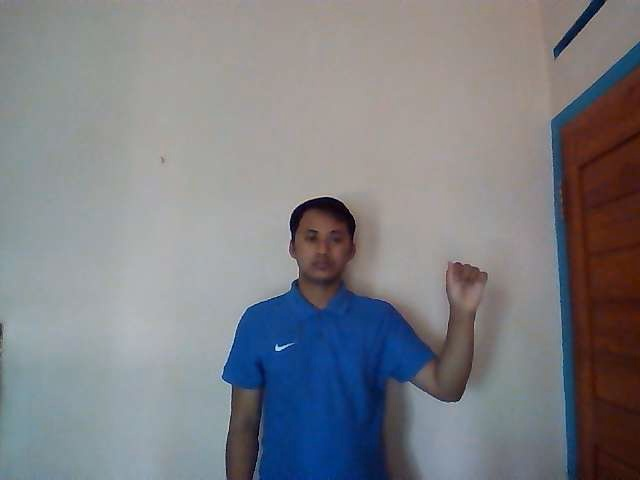A: (443, 260, 489, 311)
